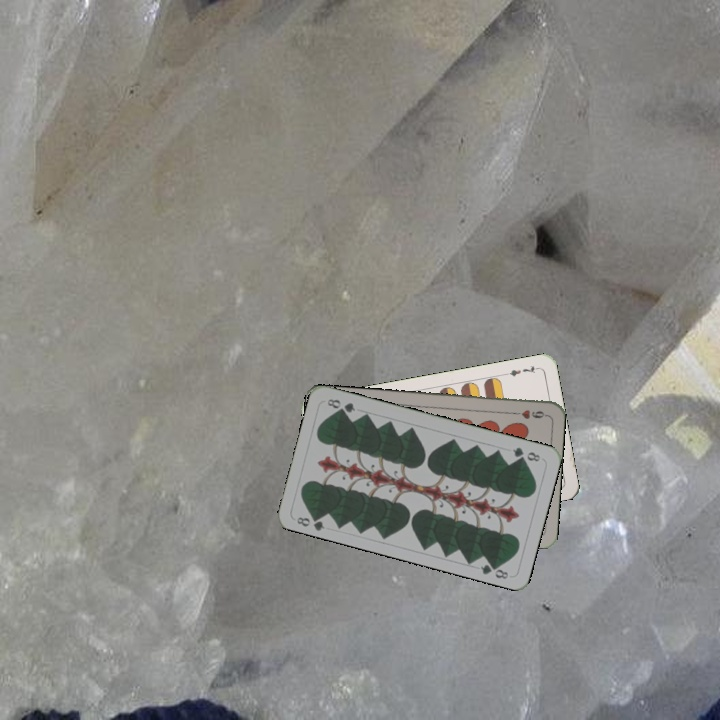E7: (501, 361, 541, 379)
G8: (293, 510, 327, 533), (508, 443, 543, 464)
H9: (508, 406, 549, 422)
